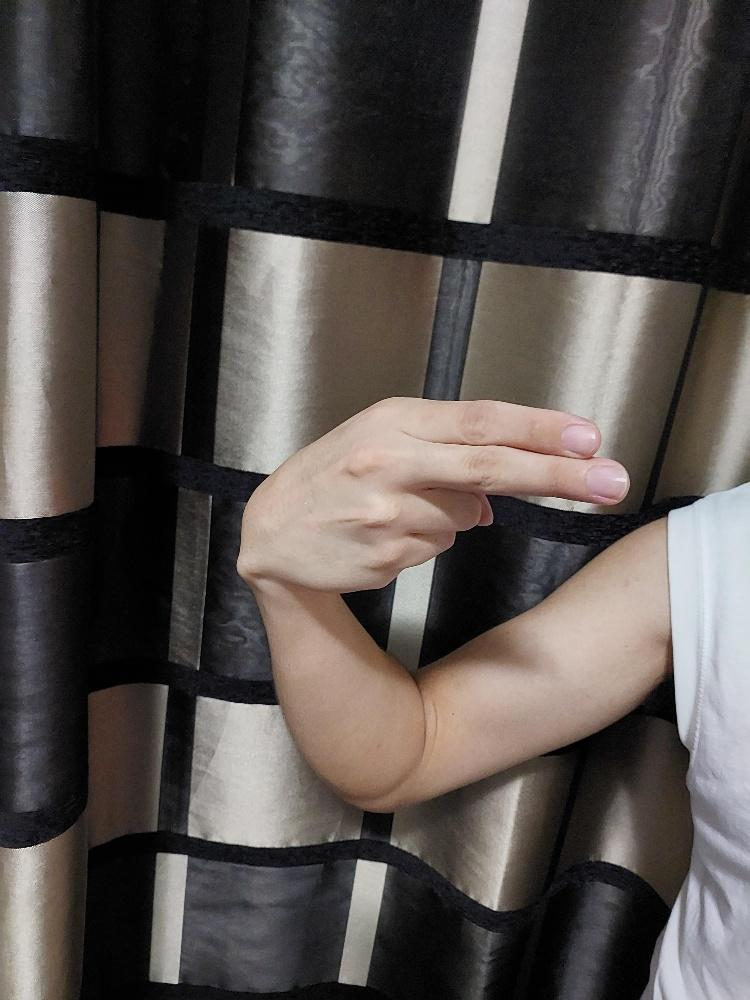h: (231, 390, 632, 597)
